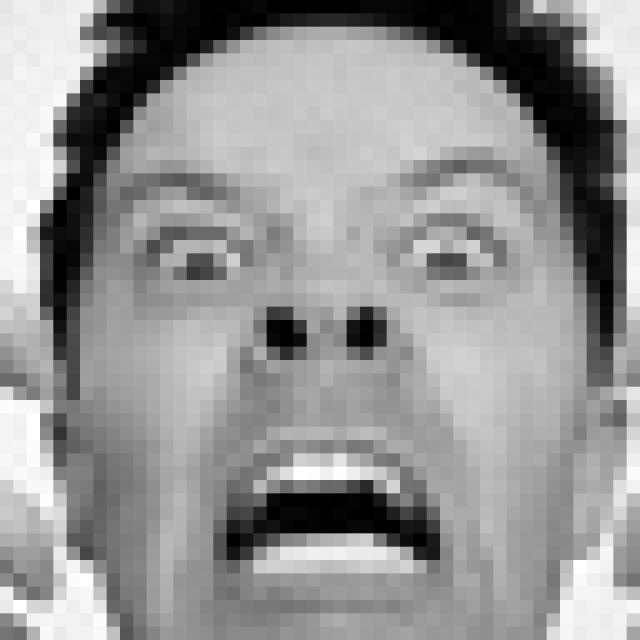angry: (102, 145, 544, 602)
